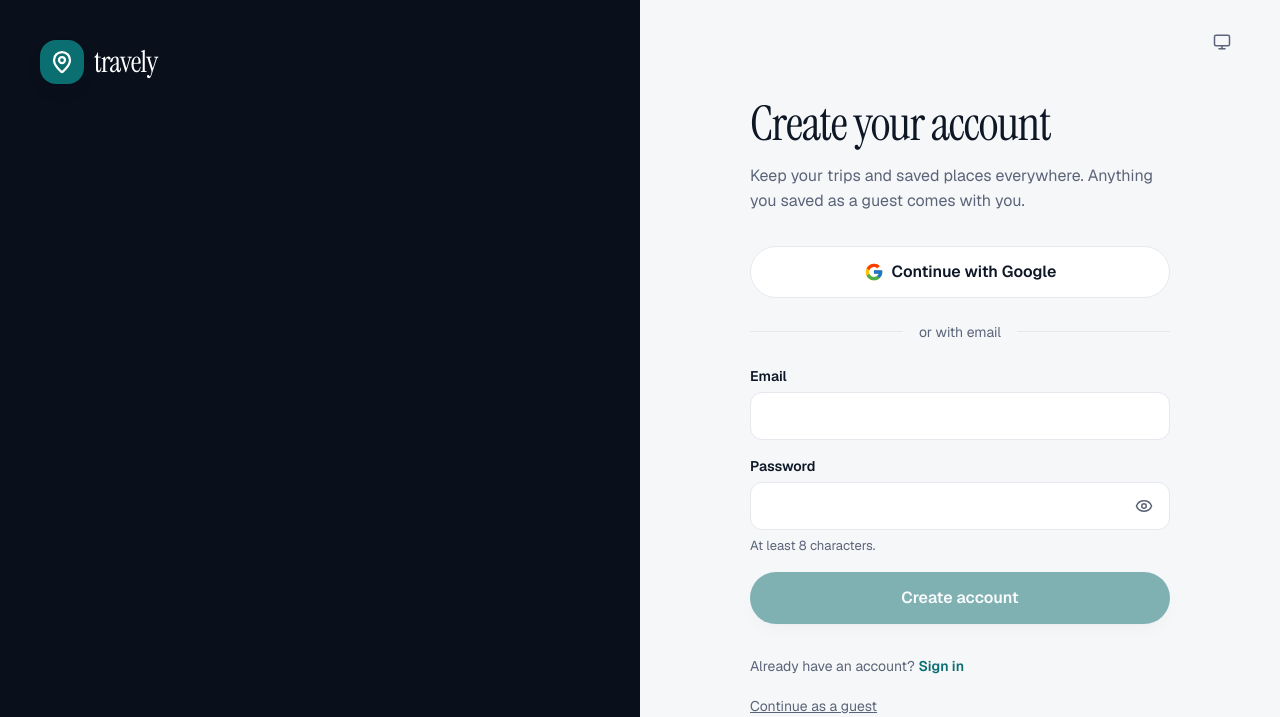
Test: AuthPage › checks password length before creating an account
In the field labelled "Email": (960,416) left=750, top=392, right=1170, bottom=440, type "ada@example.com"
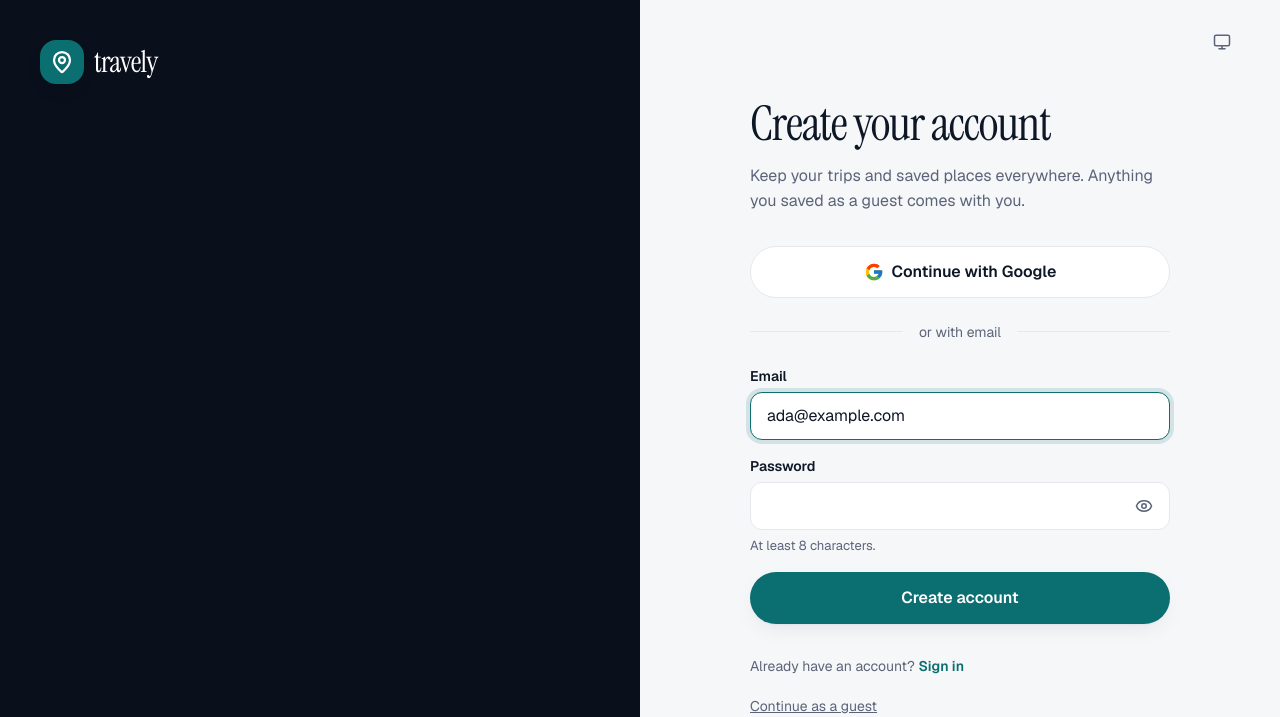
In the password field labelled "Password": (960,506) left=750, top=482, right=1170, bottom=530, type "short"
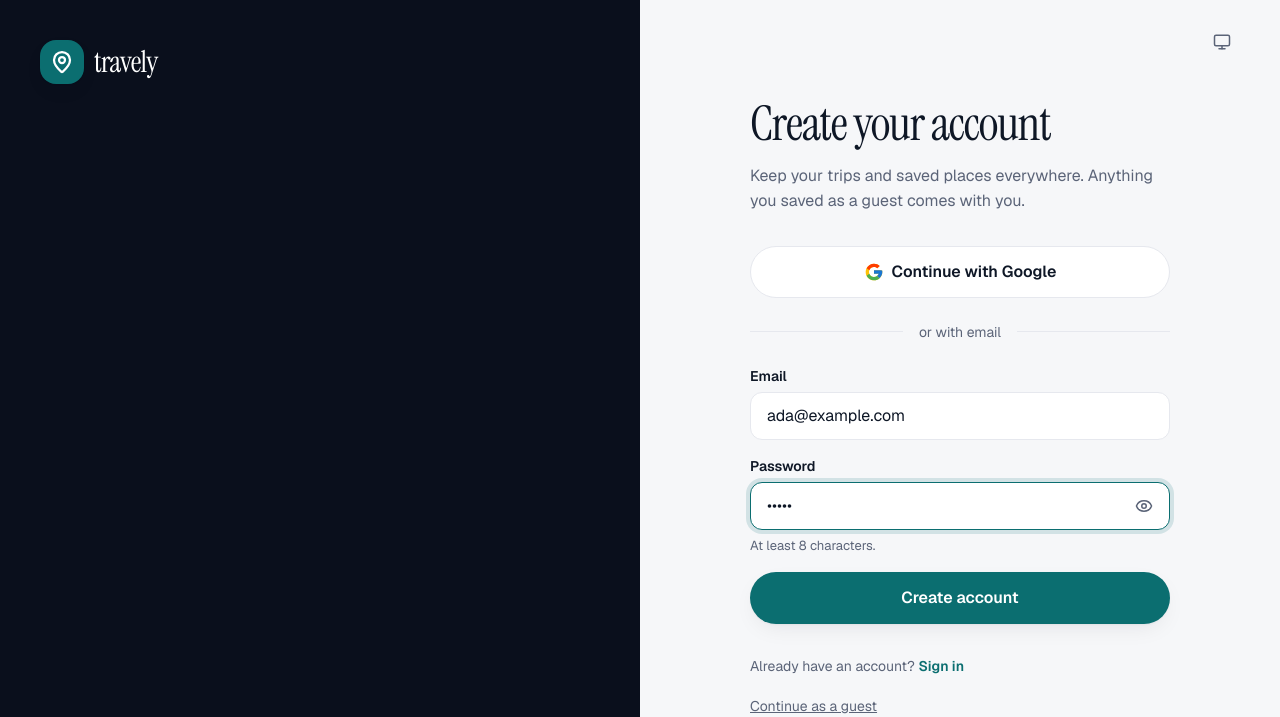
Click the button "Create account": (960,598) left=750, top=572, right=1170, bottom=624
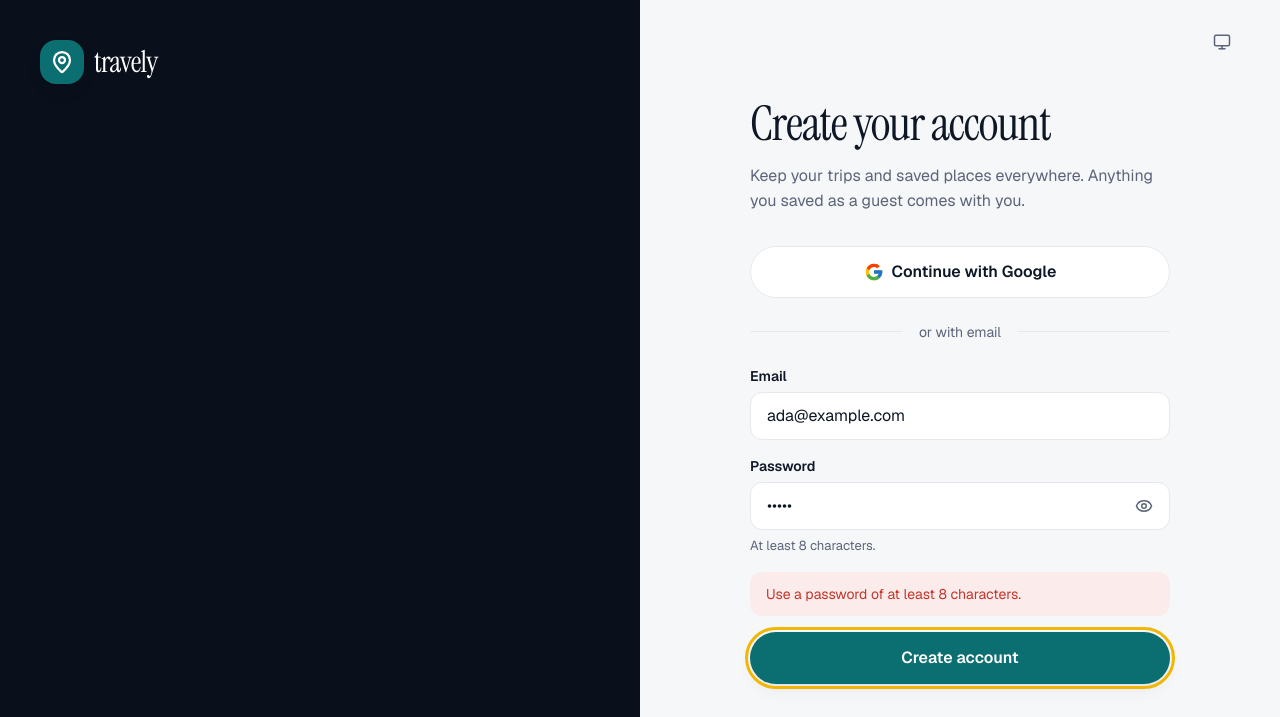
Now the message shows "at least 8 characters", box left=766, top=585, right=1021, bottom=603
